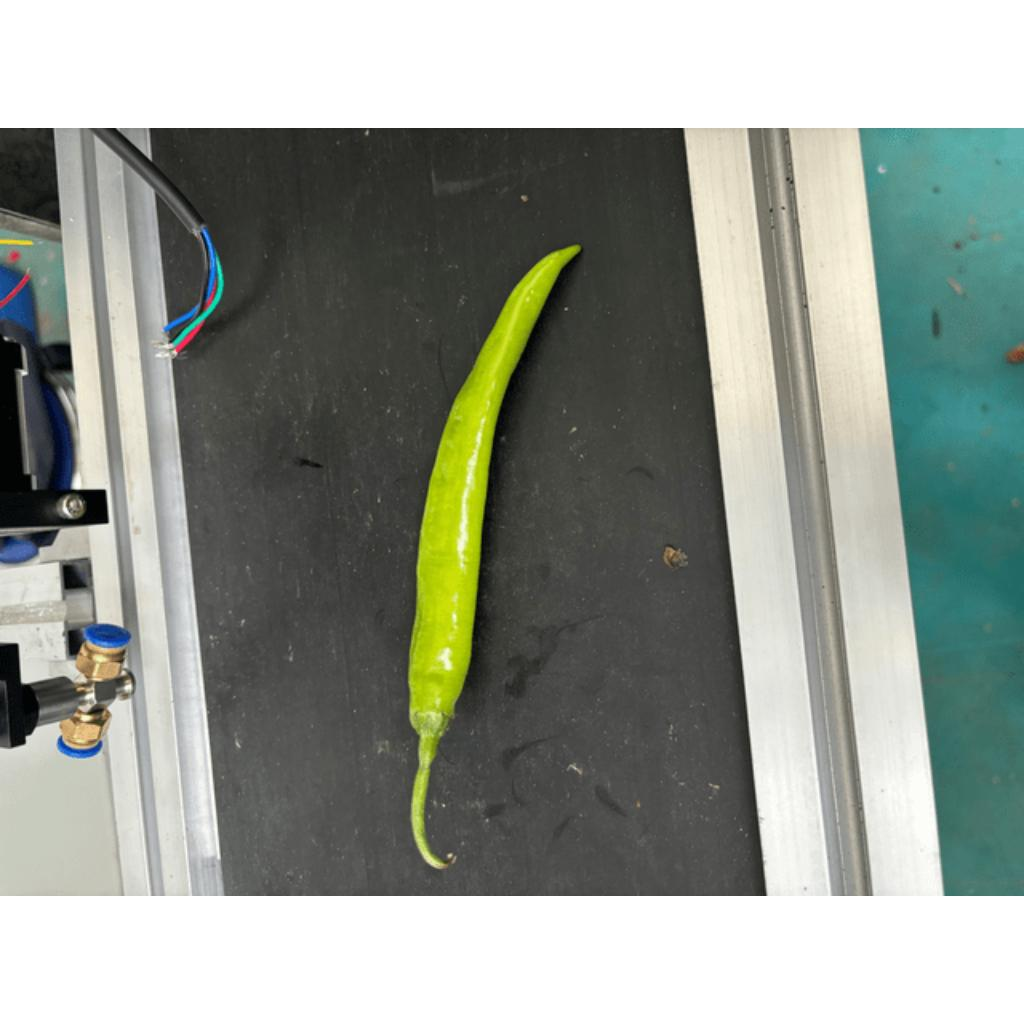chili: (405, 242, 585, 740)
